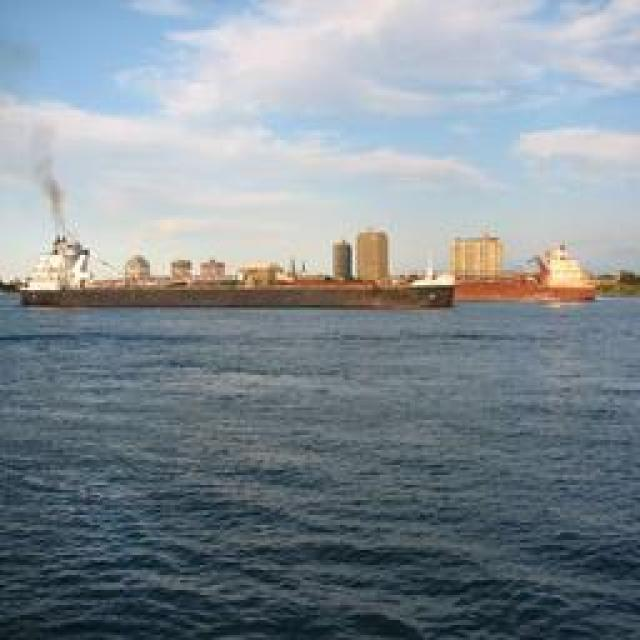ship2: (26, 233, 458, 311)
